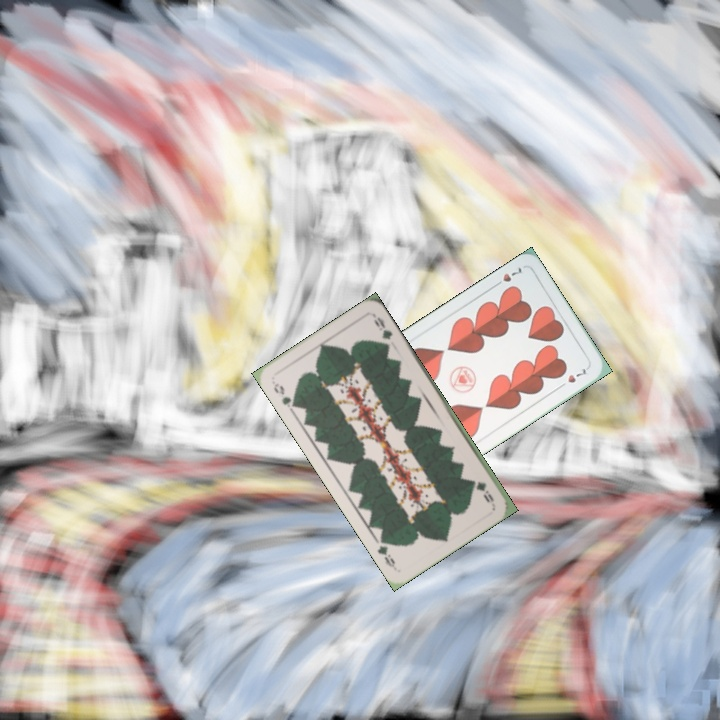G9: (269, 379, 300, 413), (473, 477, 497, 505)
H7: (489, 263, 526, 290)
